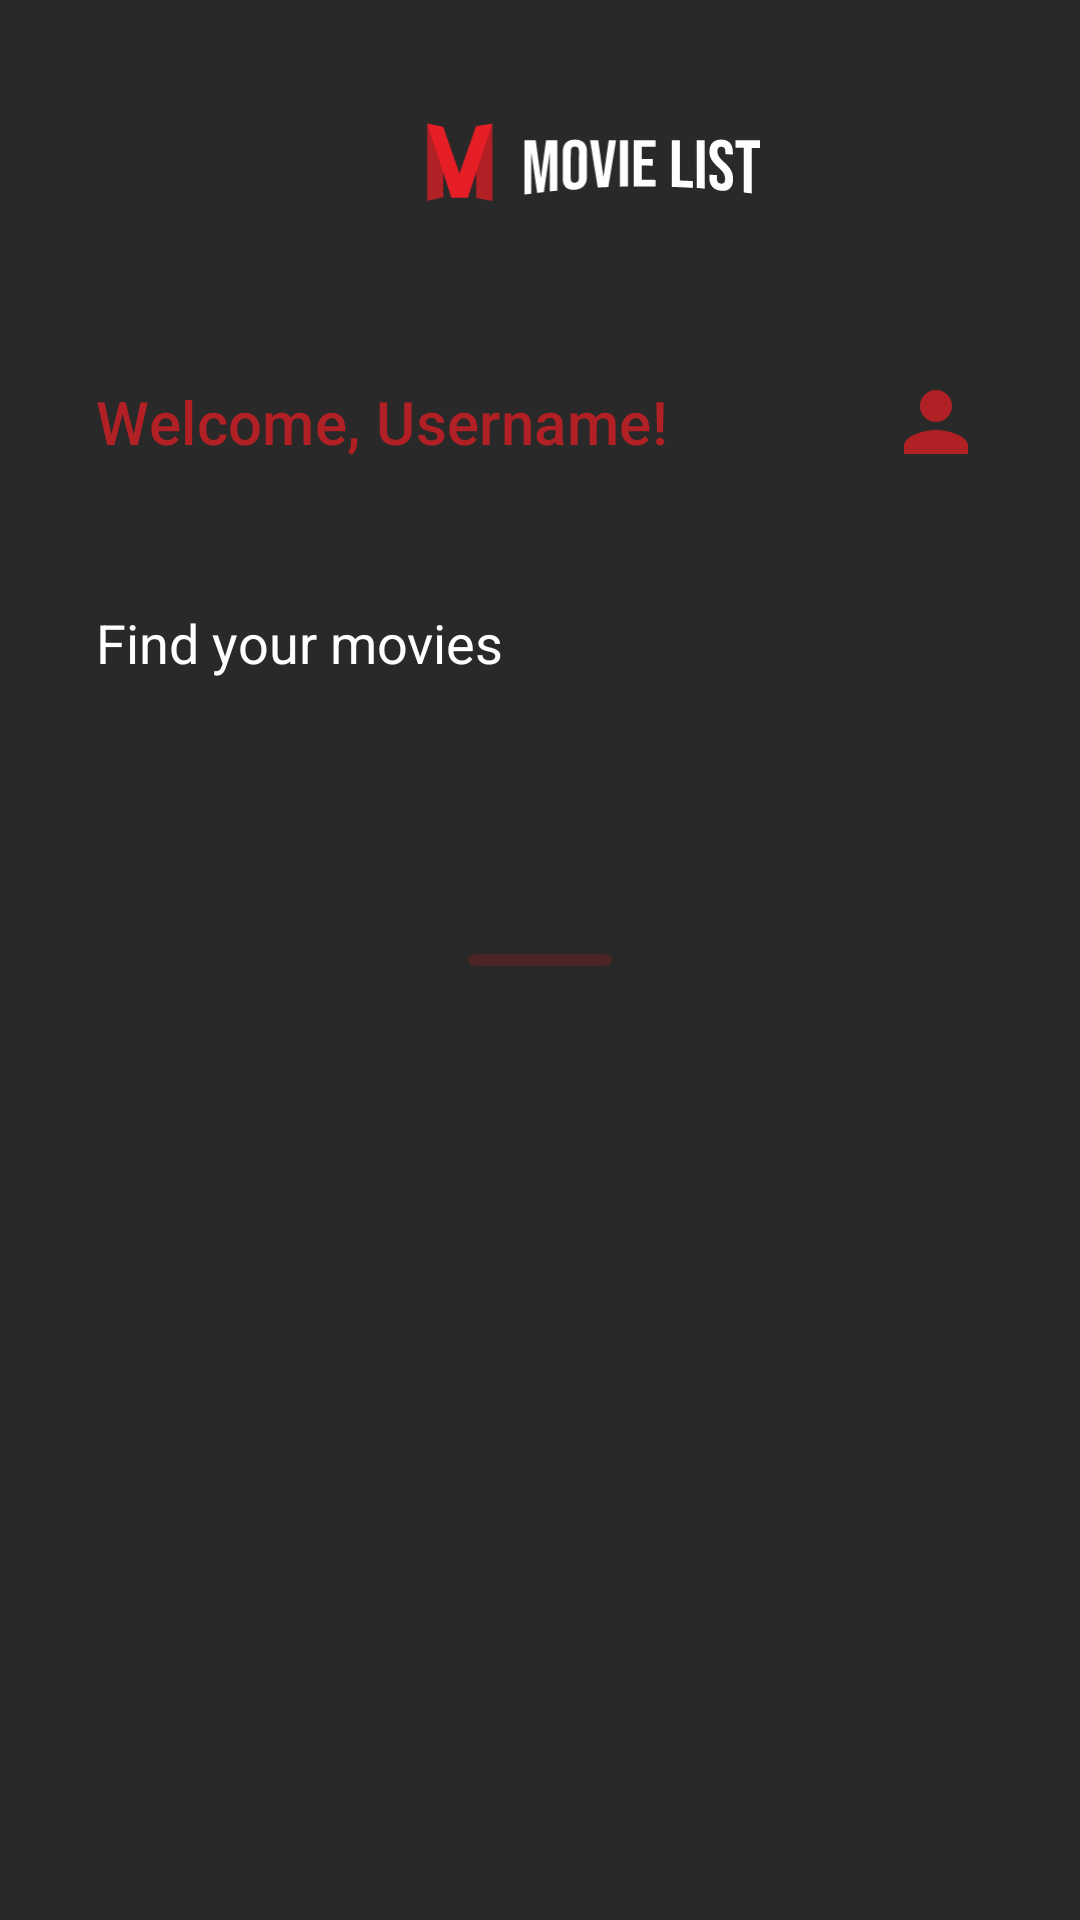

Where icons sit on this 1080w x 1920h app screen, as (x1, y1, x2, y2):
person: (904, 390, 968, 454)
